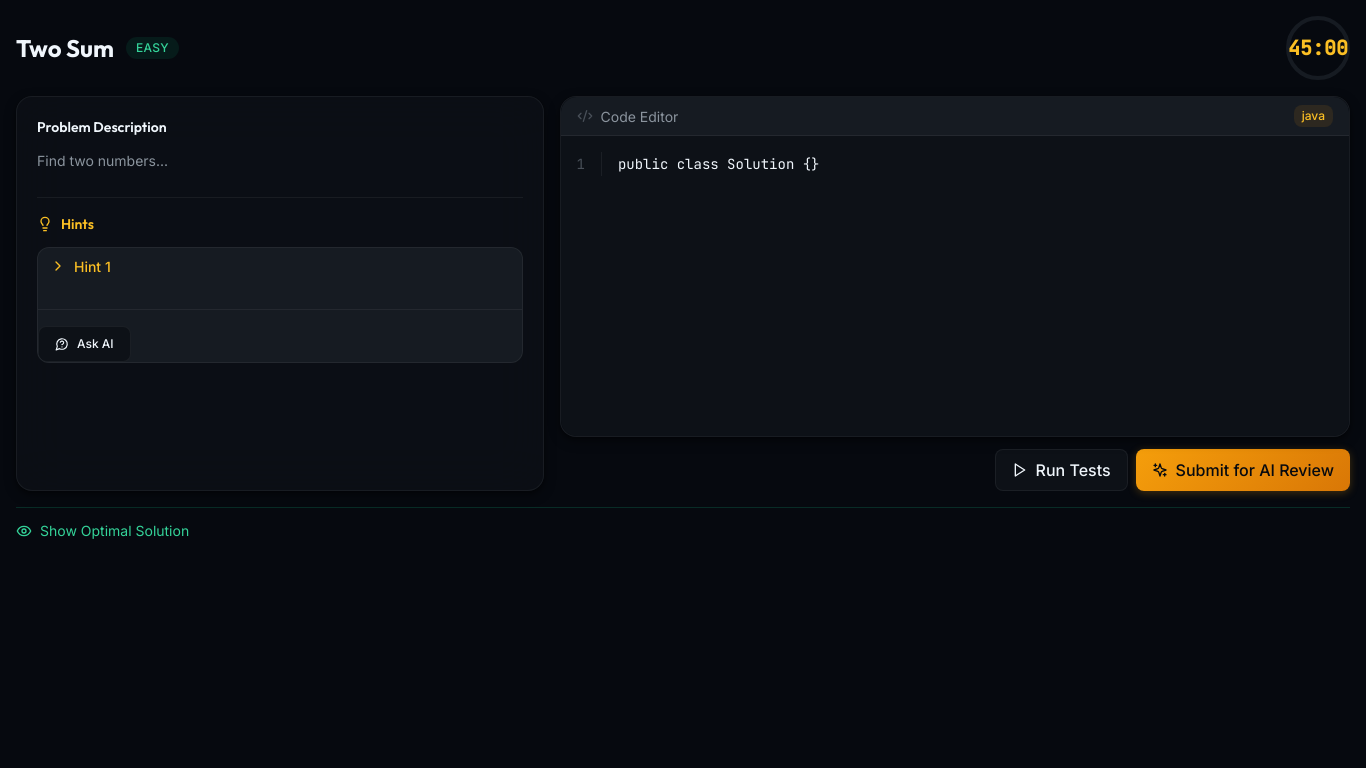
it: ChallengeWorkspace - Reference Solution › reveals solution content after clicking show button
The image size is (1366, 768).
Click the button "Show Optimal Solution".
click(103, 530)  # box [16,508,189,553]
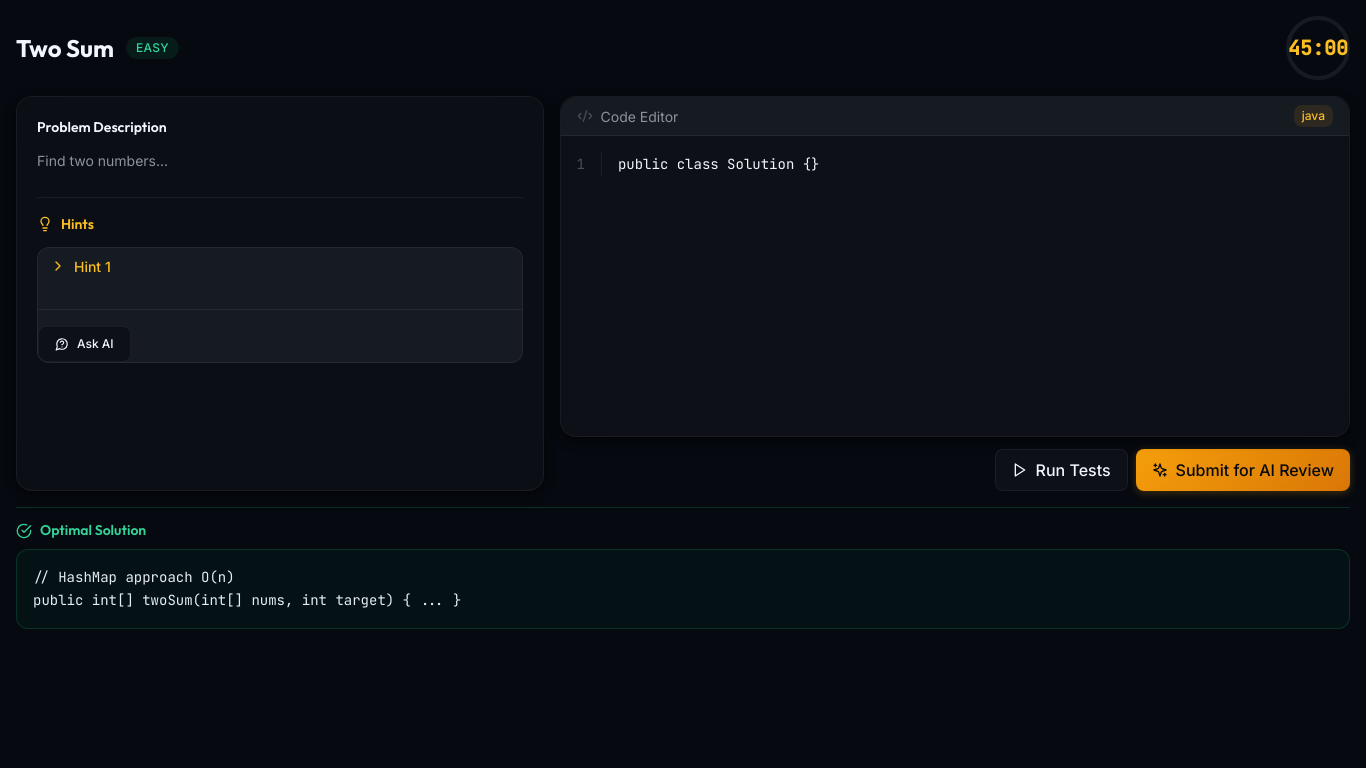
Expected: the heading "Optimal Solution" is shown, [40,520,146,541]
Expected: the text "HashMap approach" is shown, [33,568,461,609]
